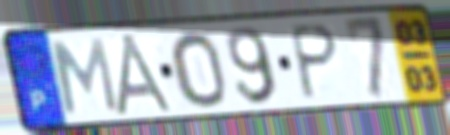7: (341, 12, 387, 103)
9: (224, 25, 280, 107)
A: (113, 31, 179, 118)
M: (48, 36, 122, 117)
O: (167, 29, 230, 110)
P: (289, 22, 341, 103)
